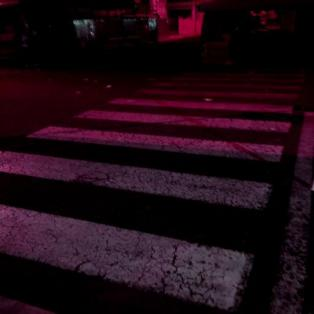Paso de Cebra: (0, 107, 298, 167)
